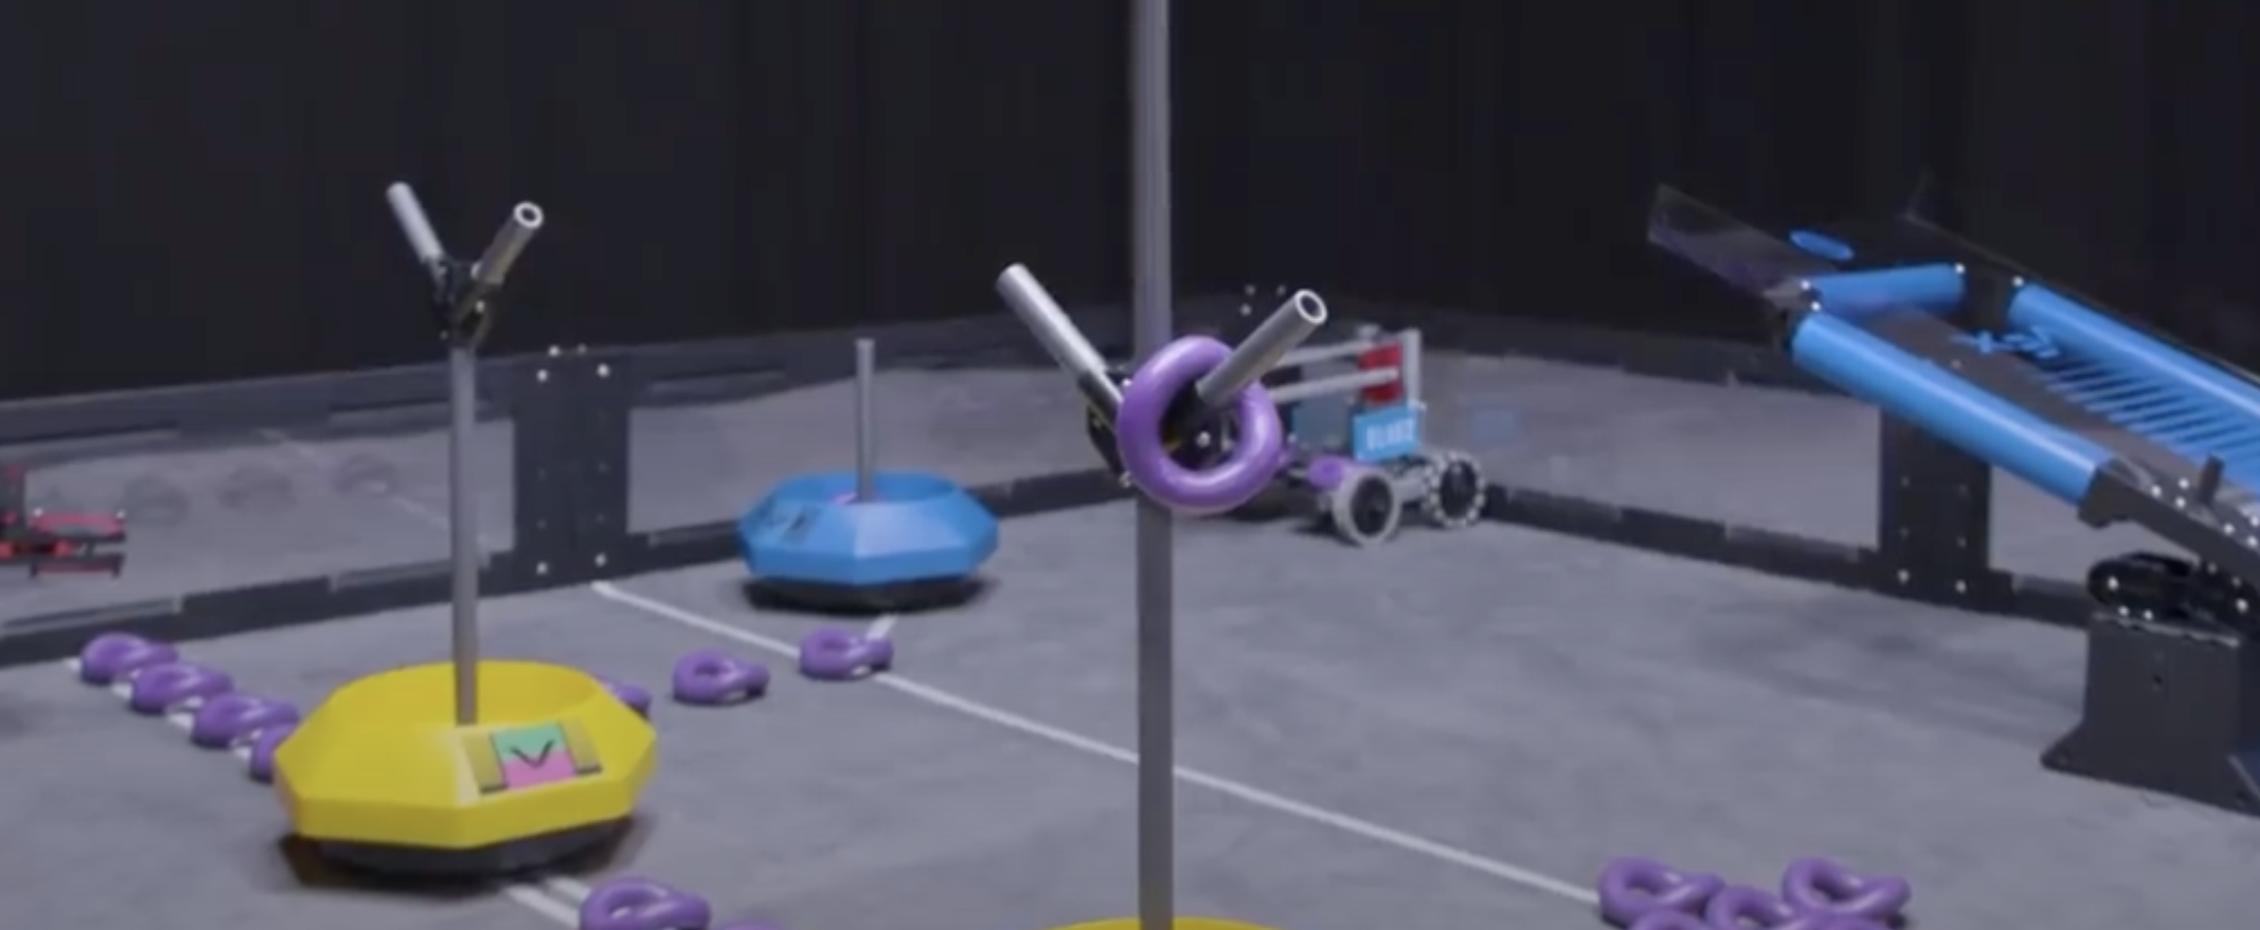ring: (1114, 332, 1281, 513), (1601, 854, 1725, 920), (1783, 856, 1914, 918), (579, 878, 711, 930), (1708, 882, 1816, 930), (675, 647, 771, 699), (196, 692, 294, 743), (82, 630, 177, 681), (133, 660, 236, 707), (801, 629, 891, 673), (249, 719, 306, 771), (1304, 456, 1366, 490)
